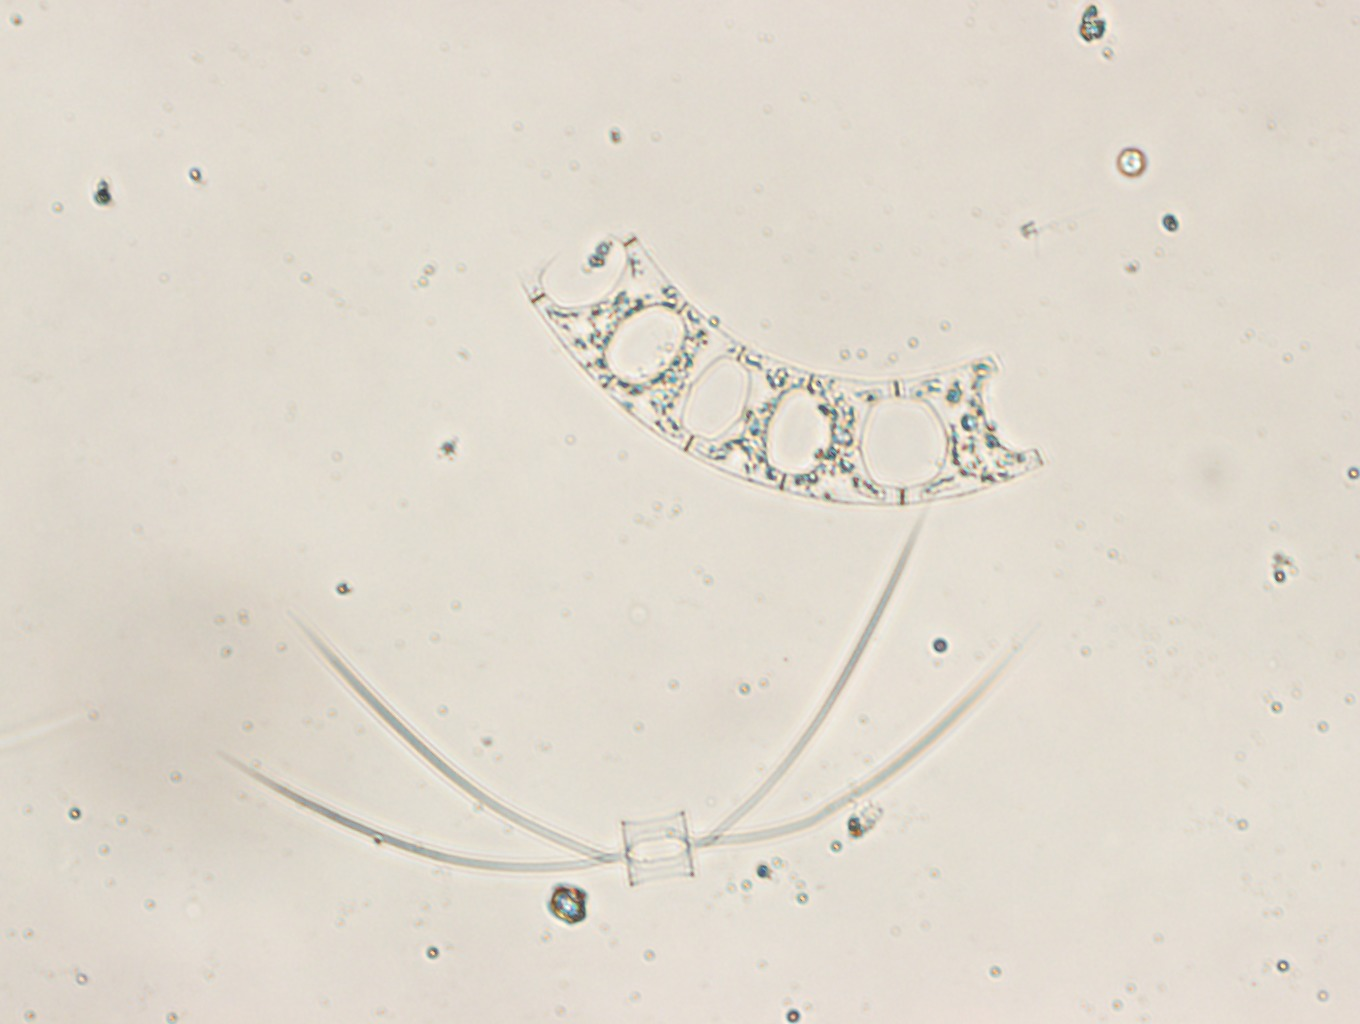chaetoceros: (229, 510, 1046, 884)
eucampia: (514, 232, 1045, 506)
